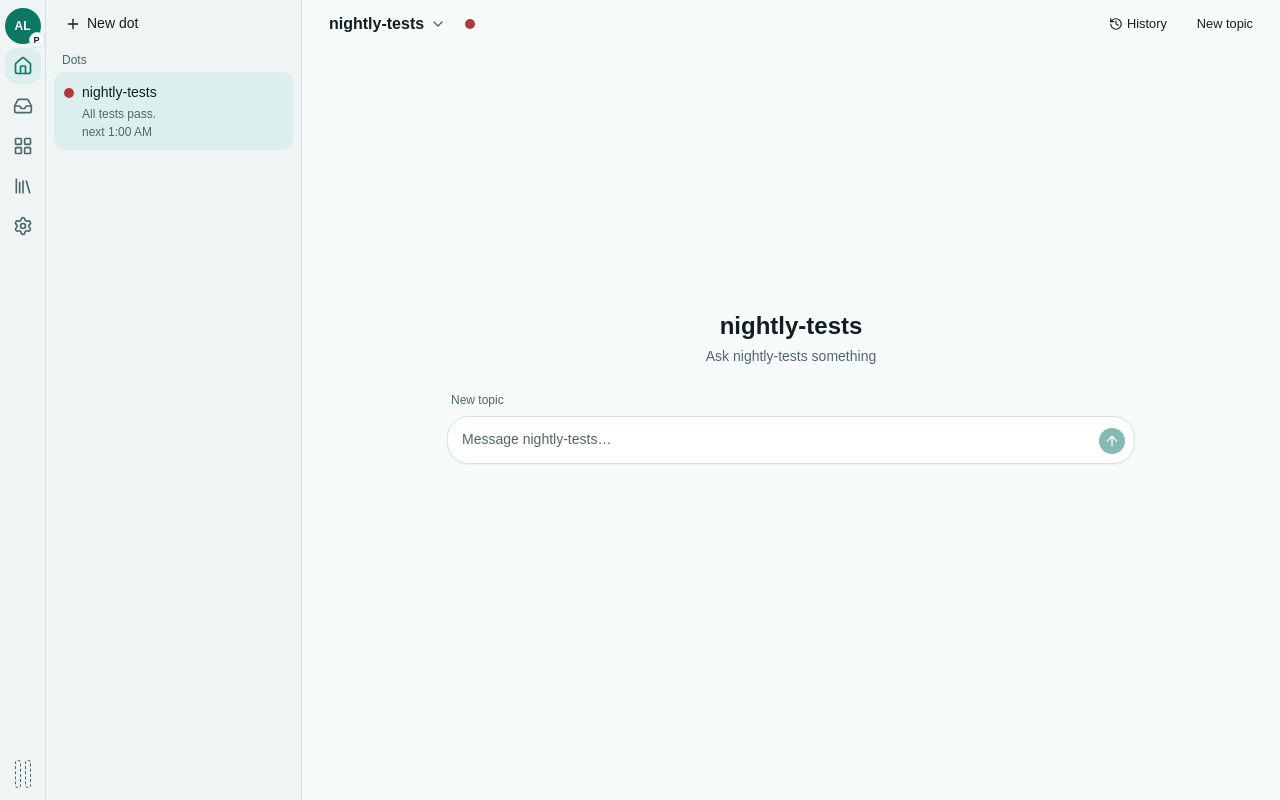
it: the account switcher › counts what waits in an account that is not the current one
The image size is (1280, 800).
Click the button with aria-label "Account:" at (22, 26), box x1=4 y1=8 x2=40 y2=44
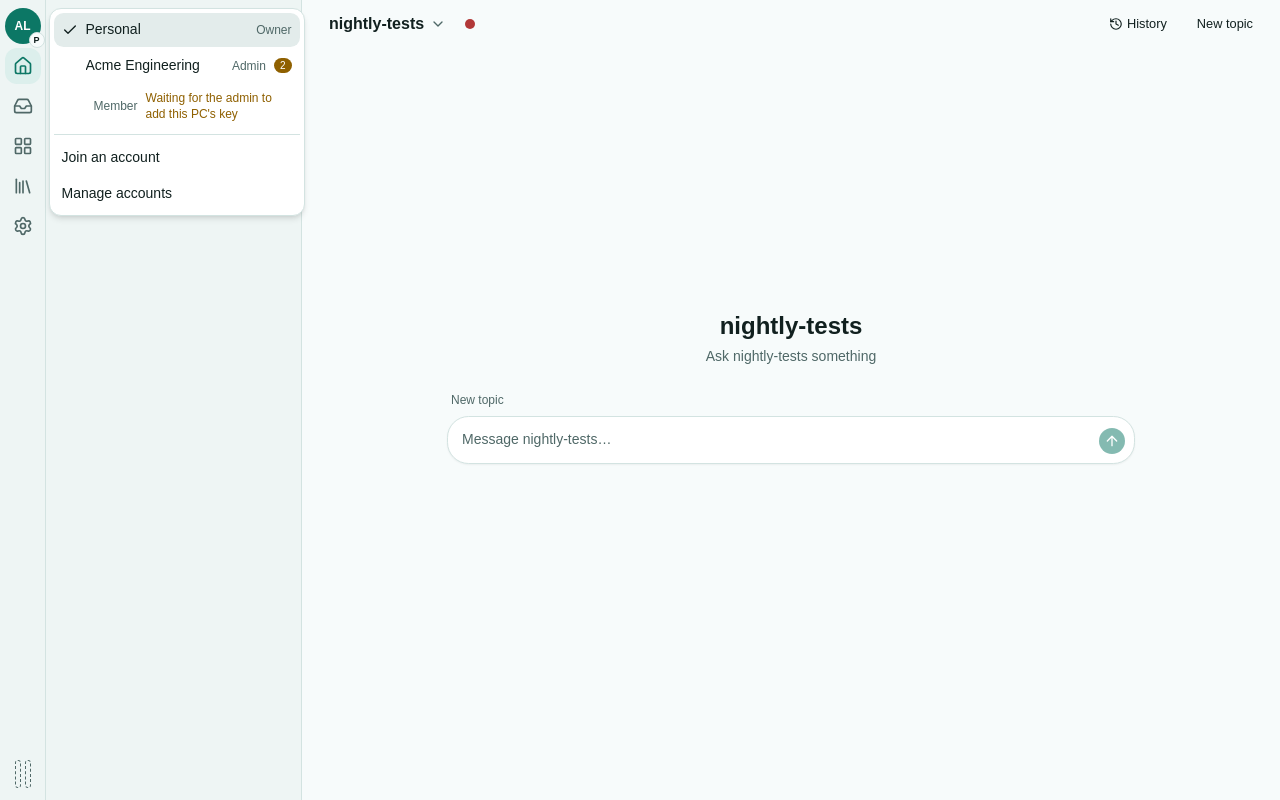
Expected: the menu item "Acme Engineering Admin 2" is shown, x1=54 y1=49 x2=300 y2=82
